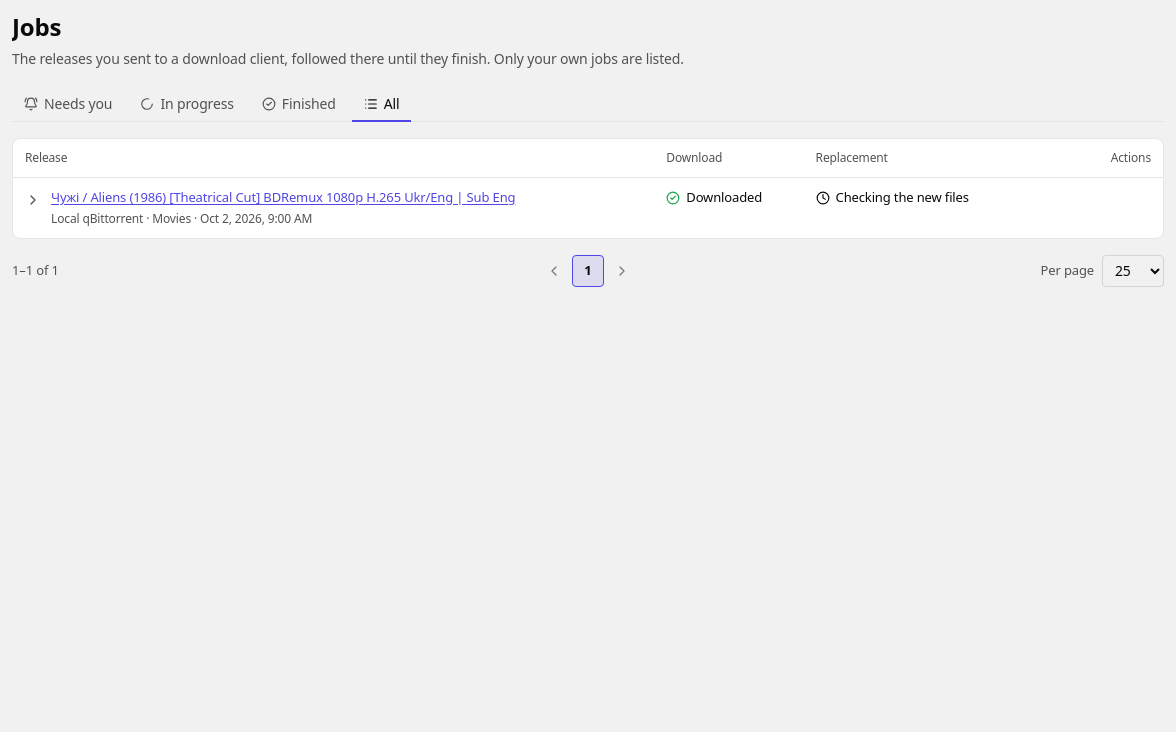
Test: JobsPage while a job is followed › asks for an opened row's copies every 2 s while the check runs (Downloaded), and no more once it stopped
Expected: the link "Чужі / Aliens (1986) [Theatrical Cut] BDRemux 1080p H.265 Ukr/Eng | Sub Eng" is shown, [51, 188, 515, 208]
Click the button named "Show details": point(33, 200) [21, 188, 45, 212]
Wait 12000 ms
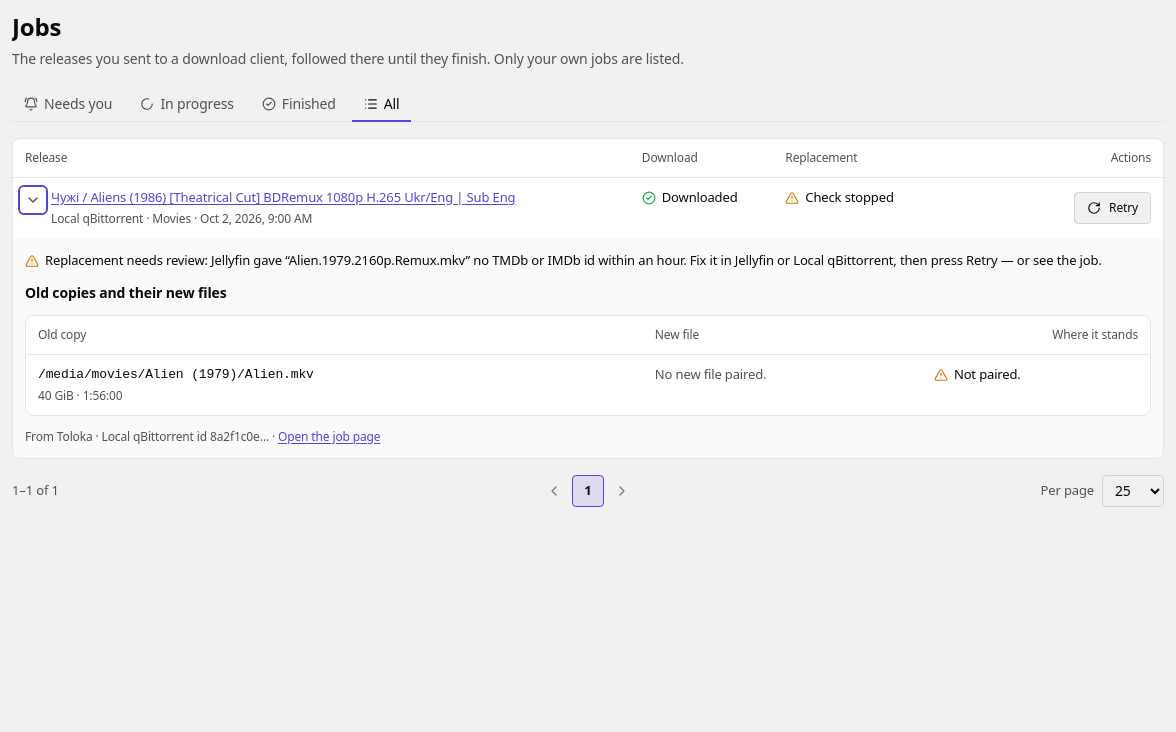
Now the element "Old copies and their new files" is shown, box [25, 282, 1151, 416]
Now the text "Not paired." is shown, box [954, 365, 1021, 384]
